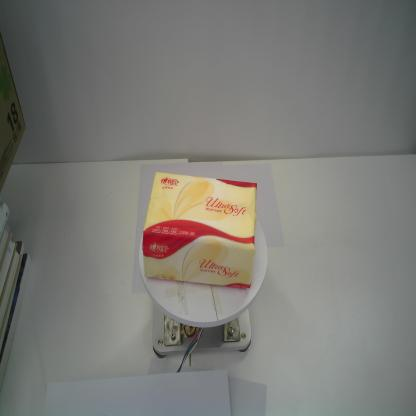Tissue: (142, 171, 257, 289)
